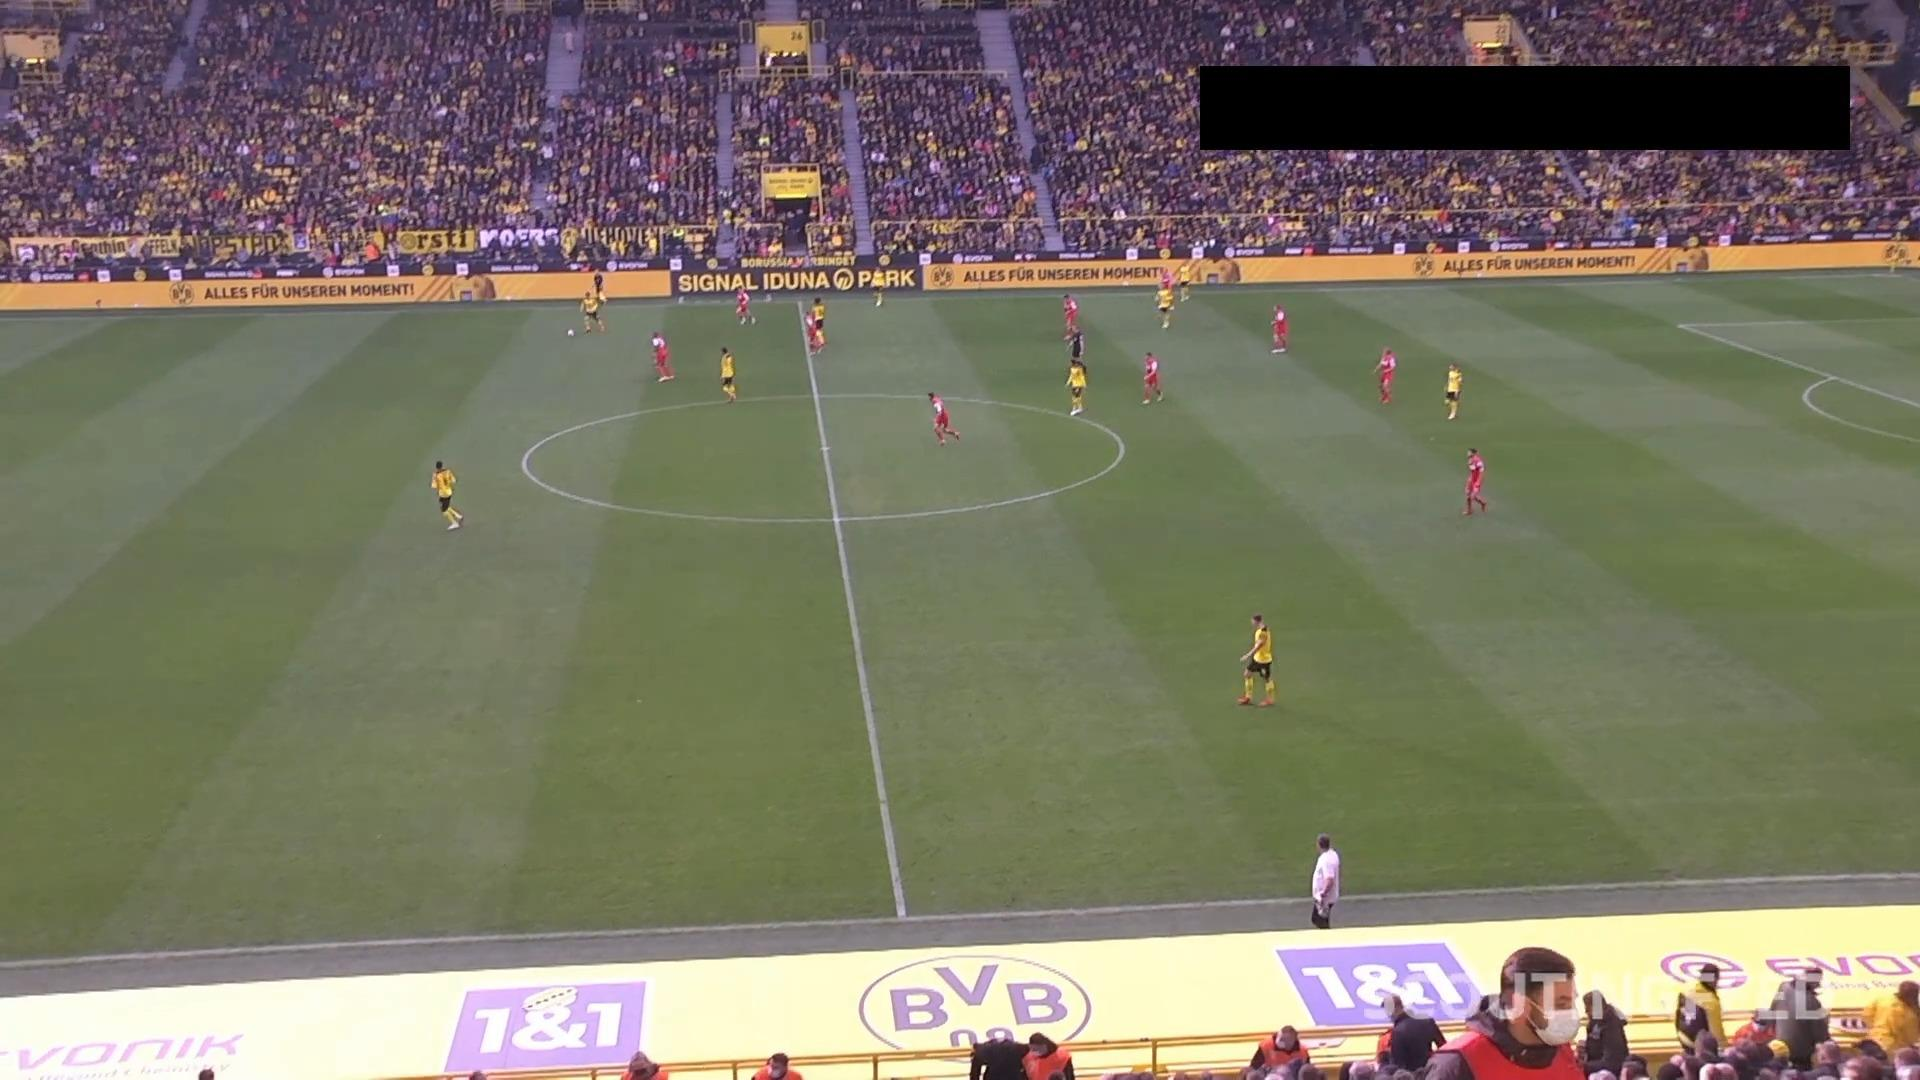ball: (567, 328, 576, 338)
